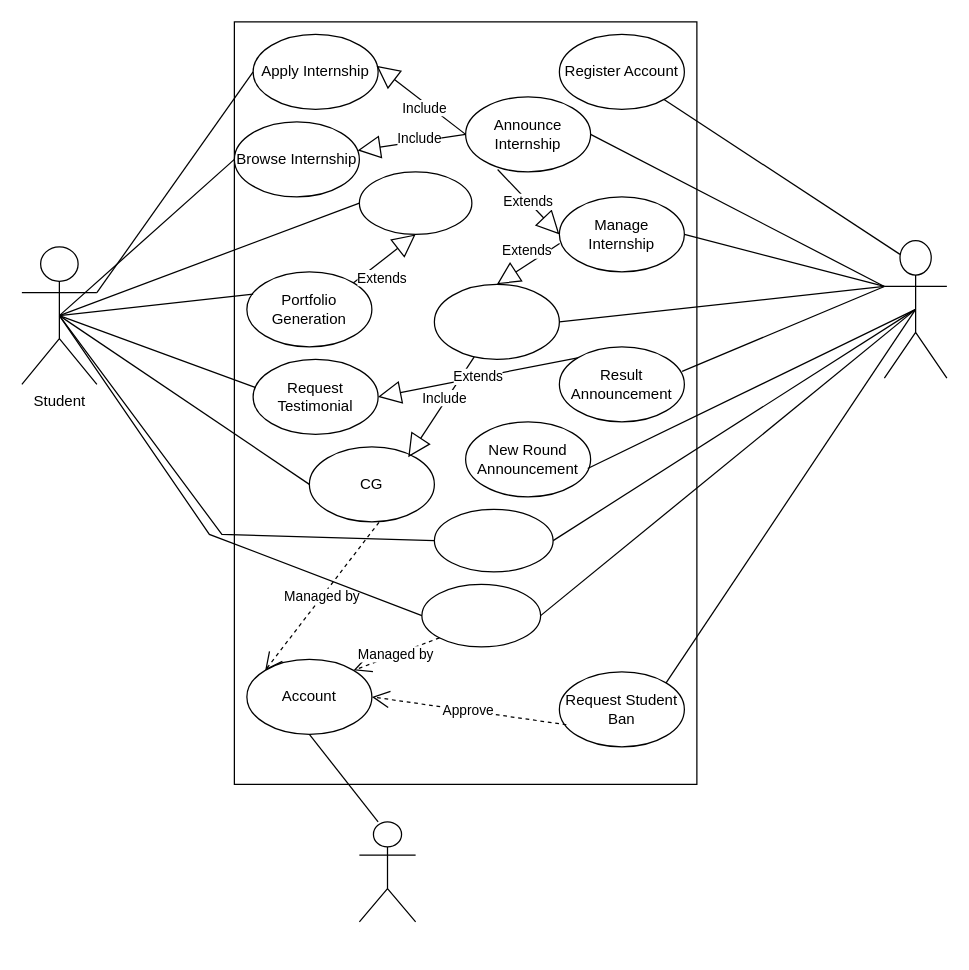
This 969x970 diagram has some shape labels left out. The shapes that lost their labels are listed below. From the top down, each one's centre as x and y in pixels, then its label:
At point (415, 202): "CV".
At point (496, 321): "CG Cut".
At point (915, 308): "Company".
At point (493, 540): "Querries".
At point (481, 615): "Account Ban".
At point (387, 871): "Placement Cell".
